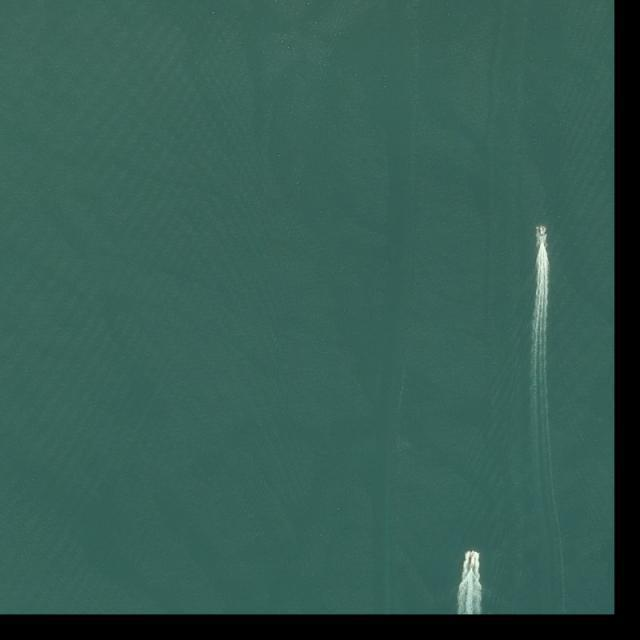ship: (468, 550, 476, 567), (539, 225, 544, 237)
